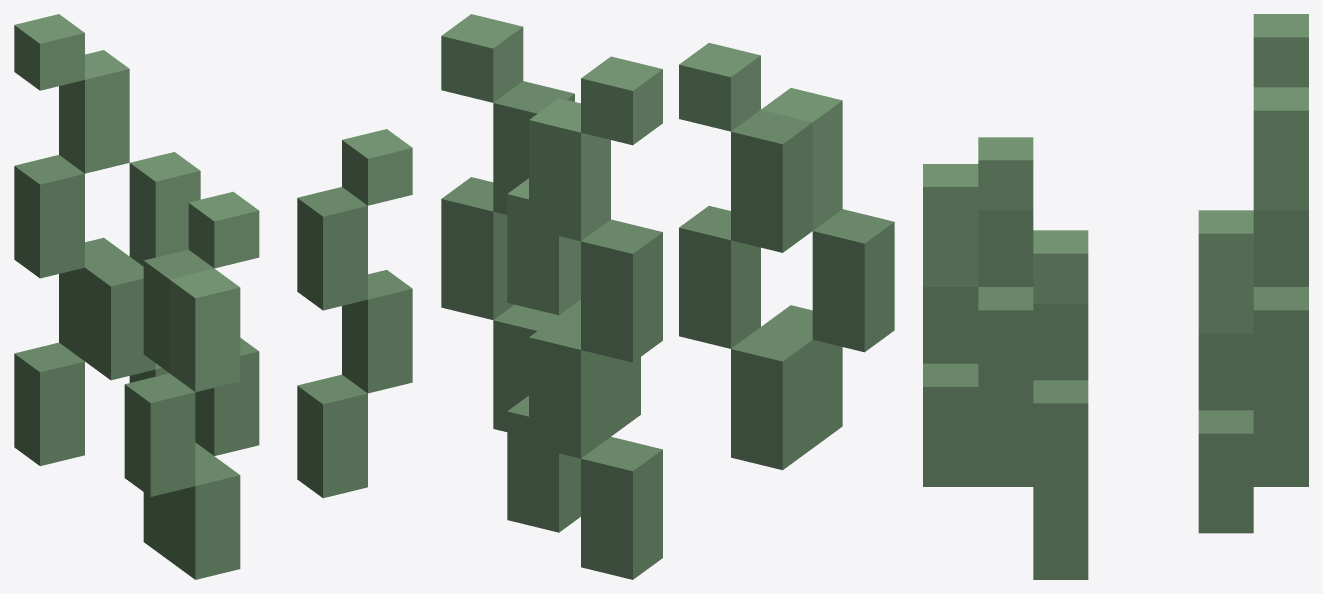
File: alga_parda_03.glb
3 views of the same model, side by side, from view 1: azimuth 30°, elevation 25°; view 2: azimuth 150°, elevation 25°; view 3: azimuth 270°, elevation 25° (orthographic). The views are drawn at different scales.
Visible parts, largest first — view 1: alga_parda_03; view 2: alga_parda_03; view 3: alga_parda_03.
Part boxes in pixels (<box>): alga_parda_03: <box>14,14,412,579</box>; alga_parda_03: <box>441,14,894,579</box>; alga_parda_03: <box>923,14,1308,579</box>.
Size of the model in its own units: 0.7 by 0.9 by 0.7.
